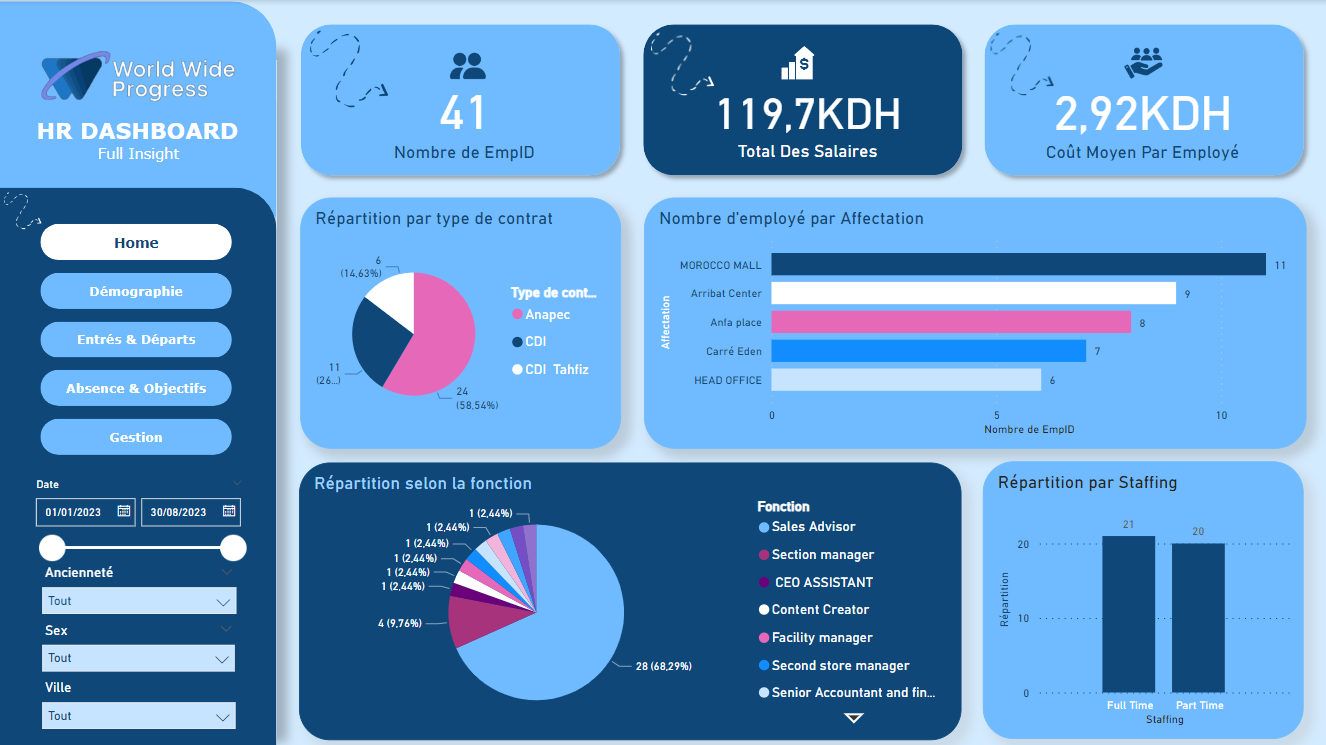

The dashboard page shown, as its layout file describes it:
{"tool":"powerbi","page":{"name":"Home","canvas":[1280,720],"ordinal":0},"visuals":[{"type":"pieChart","title":"Répartition par type de contrat","fields":{"Y":["CountNonNull(EMP (2).EmpID)"],"Category":["CONTRATS.Type de contrat"]},"box":[290.7,190.6,309.6,242],"z":0},{"type":"clusteredBarChart","title":"Nombre d''employé par Affectation","fields":{"Category":["AFFECTATIONS.Affectation"],"Y":["CountNonNull(EMP (2).EmpID)"]},"box":[622,190.6,639.5,242],"z":1000},{"type":"shape","box":[0,58.1,267.7,662.5],"z":2000},{"type":"shape","box":[0,1.4,267.7,208.2],"z":3000},{"type":"shape","box":[0,181.2,267.7,539.5],"z":4000},{"type":"pageNavigator","box":[39.8,216,185.7,223.1],"z":5000},{"type":"actionButton","box":[29.7,47.3,208.2,56.8],"z":6000},{"type":"textbox","box":[14.9,106.8,238,40.6],"z":7000},{"type":"textbox","box":[46,133.9,177.1,35.2],"z":8000},{"type":"shape","box":[282.6,14.9,325.9,163.6],"z":9000},{"type":"card","fields":{"Values":["CountNonNull(EMP (2).EmpID)"]},"box":[327.2,36.5,244.7,154.1],"z":10000},{"type":"image","box":[0,172.5,45.8,61.5],"z":11000},{"type":"image","box":[278.5,24.3,119,85.2],"z":12000},{"type":"image","box":[408.3,39.2,86.5,47.3],"z":13000},{"type":"shape","box":[613.2,14.9,325.9,163.6],"z":14000},{"type":"shape","box":[942.4,14.9,325.9,163.6],"z":15000},{"type":"card","fields":{"Values":["EMP (2).Total Des Salaires"]},"box":[667.9,64.9,224.5,98.7],"z":16000},{"type":"image","box":[736.9,41.9,67.6,40.6],"z":17000},{"type":"card","fields":{"Values":["EMP (2).Coût Moyen Par Employé"]},"box":[996.5,67.6,215,91.9],"z":18000},{"type":"image","box":[1076.3,36.5,56.8,48.7],"z":19000},{"type":"image","box":[938.4,27,97.4,70.3],"z":20000},{"type":"image","box":[736.9,39.2,67.6,41.9],"z":21000},{"type":"image","box":[608.5,27,100.1,70.3],"z":22000},{"type":"columnChart","fields":{"Category":["EMP (2).Staffing"],"Y":["CountNonNull(EMP (2).EmpID)"]},"box":[949.1,444.7,309.6,267.7],"z":23000},{"type":"pieChart","title":"Répartition selon la fonction ","fields":{"Category":["Fonction.Fonction "],"Y":["CountNonNull(EMP (2).EmpID)"]},"box":[289.3,446.1,639.5,267.7],"z":24000},{"type":"slicer","fields":{"Values":["DATE.Date"]},"box":[22.9,455.9,224.3,102.5],"z":25000},{"type":"slicer","fields":{"Values":["AFFECTATIONS.Ville"]},"box":[31,651.3,207,61],"z":26000},{"type":"slicer","fields":{"Values":["EMP.Sex"]},"box":[31.4,595.8,206.2,61.5],"z":27000},{"type":"slicer","fields":{"Values":["EMP.Ancienneté"]},"box":[31.4,540.3,207.4,61.5],"z":28000},{"type":"bookmarkNavigator","box":[0,0,600,50],"z":29000}]}

Visuals, with their boxes in screenshot pixels (x1, y1, x2, y2), scaled from the page's 1280x720 canvas onto the 1326x745 screenshot:
"Répartition par type de contrat" pieChart: <bbox>301, 197, 622, 448</bbox>
"Nombre d''employé par Affectation" clusteredBarChart: <bbox>644, 197, 1307, 448</bbox>
shape: <bbox>0, 60, 277, 744</bbox>
shape: <bbox>0, 1, 277, 217</bbox>
shape: <bbox>0, 187, 277, 744</bbox>
pageNavigator: <bbox>41, 224, 234, 454</bbox>
actionButton: <bbox>31, 49, 246, 108</bbox>
textbox: <bbox>15, 111, 262, 153</bbox>
textbox: <bbox>48, 139, 231, 175</bbox>
shape: <bbox>293, 15, 630, 185</bbox>
card - CountNonNull(EMP (2).EmpID): <bbox>339, 38, 592, 197</bbox>
image: <bbox>0, 178, 47, 242</bbox>
image: <bbox>289, 25, 412, 113</bbox>
image: <bbox>423, 41, 513, 90</bbox>
shape: <bbox>635, 15, 973, 185</bbox>
shape: <bbox>976, 15, 1314, 185</bbox>
card - EMP (2).Total Des Salaires: <bbox>692, 67, 924, 169</bbox>
image: <bbox>763, 43, 833, 85</bbox>
card - EMP (2).Coût Moyen Par Employé: <bbox>1032, 70, 1255, 165</bbox>
image: <bbox>1115, 38, 1174, 88</bbox>
image: <bbox>972, 28, 1073, 101</bbox>
image: <bbox>763, 41, 833, 84</bbox>
image: <bbox>630, 28, 734, 101</bbox>
columnChart - EMP (2).Staffing x CountNonNull(EMP (2).EmpID): <bbox>983, 460, 1304, 737</bbox>
"Répartition selon la fonction " pieChart: <bbox>300, 462, 962, 739</bbox>
slicer - DATE.Date: <bbox>24, 472, 256, 578</bbox>
slicer - AFFECTATIONS.Ville: <bbox>32, 674, 247, 737</bbox>
slicer - EMP.Sex: <bbox>33, 616, 246, 680</bbox>
slicer - EMP.Ancienneté: <bbox>33, 559, 247, 623</bbox>
bookmarkNavigator: <bbox>0, 0, 622, 52</bbox>
